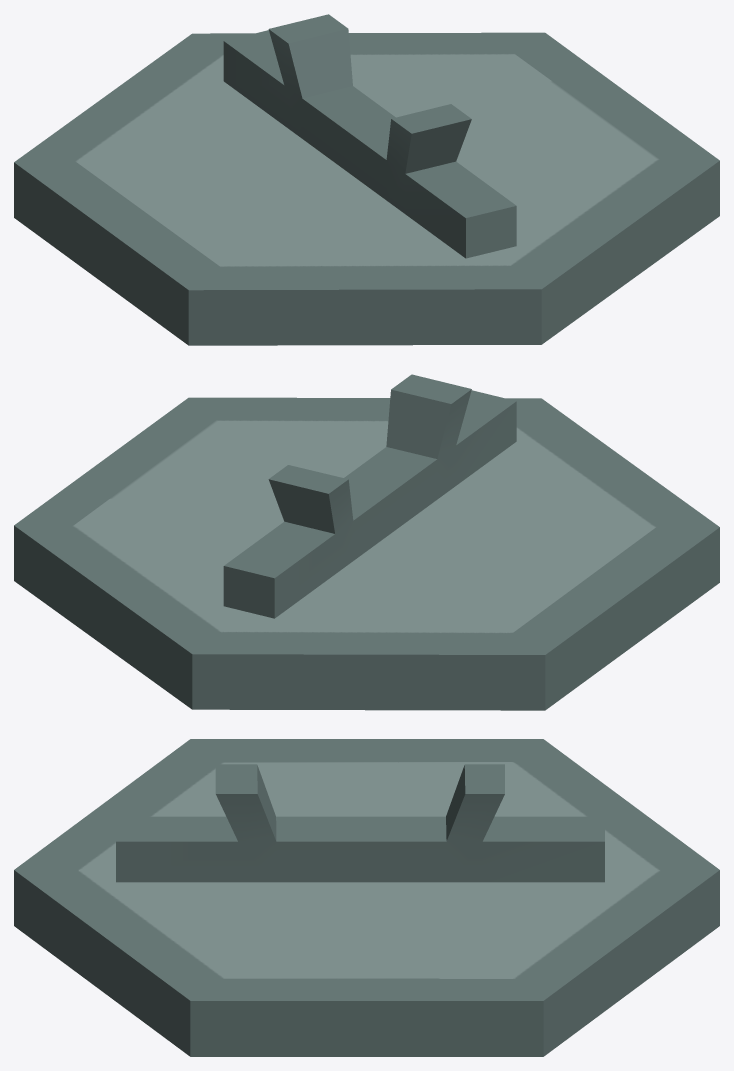
The model's file is hexagon.fbx.
3 views of the same model, one above another, from view 1: azimuth 30°, elevation 25°; view 2: azimuth 150°, elevation 25°; view 3: azimuth 270°, elevation 25° (orthographic).
Visible parts, largest first — view 1: hexagon; view 2: hexagon; view 3: hexagon.
Part boxes in pixels (x1,y1,x2,y2): hexagon: [14, 14, 719, 345]; hexagon: [14, 374, 719, 710]; hexagon: [14, 739, 719, 1056].
Size of the model in its own units: 3.97 by 1.04 by 4.52.
